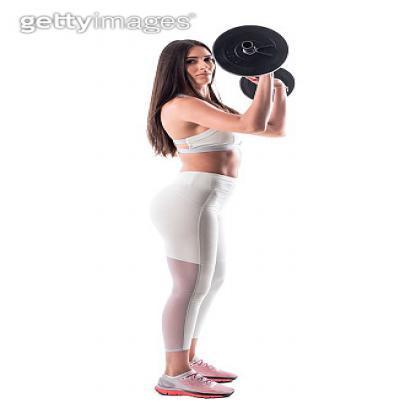barbell: (213, 22, 296, 101)
